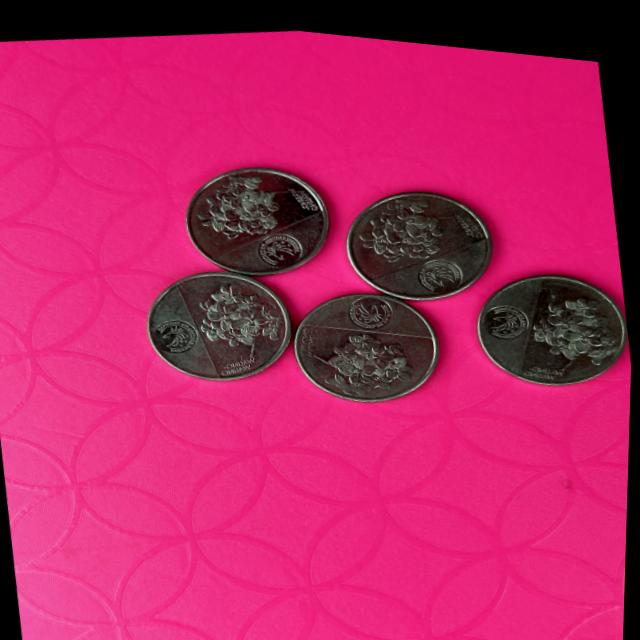1_New_Back: (191, 274, 303, 372), (526, 274, 628, 372), (313, 312, 420, 398), (355, 185, 455, 267), (204, 155, 298, 240)
